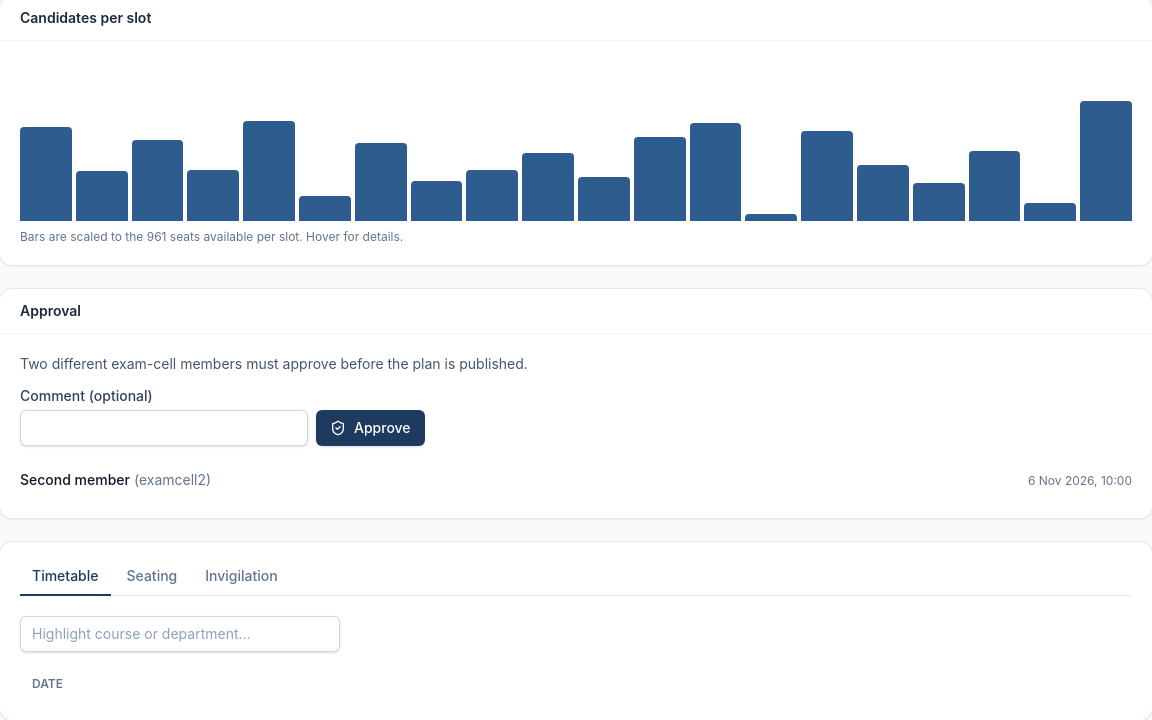
Test: RunDetailPage approvals › shows the plan metrics and the second approval starts publishing
(page scrolled)
Expected: the text "Second member" is shown, left=20, top=471, right=130, bottom=488
In the field labelled "Comment (optional)": coordinates (164, 428) left=20, top=410, right=308, bottom=446, type "Checked the clashes"
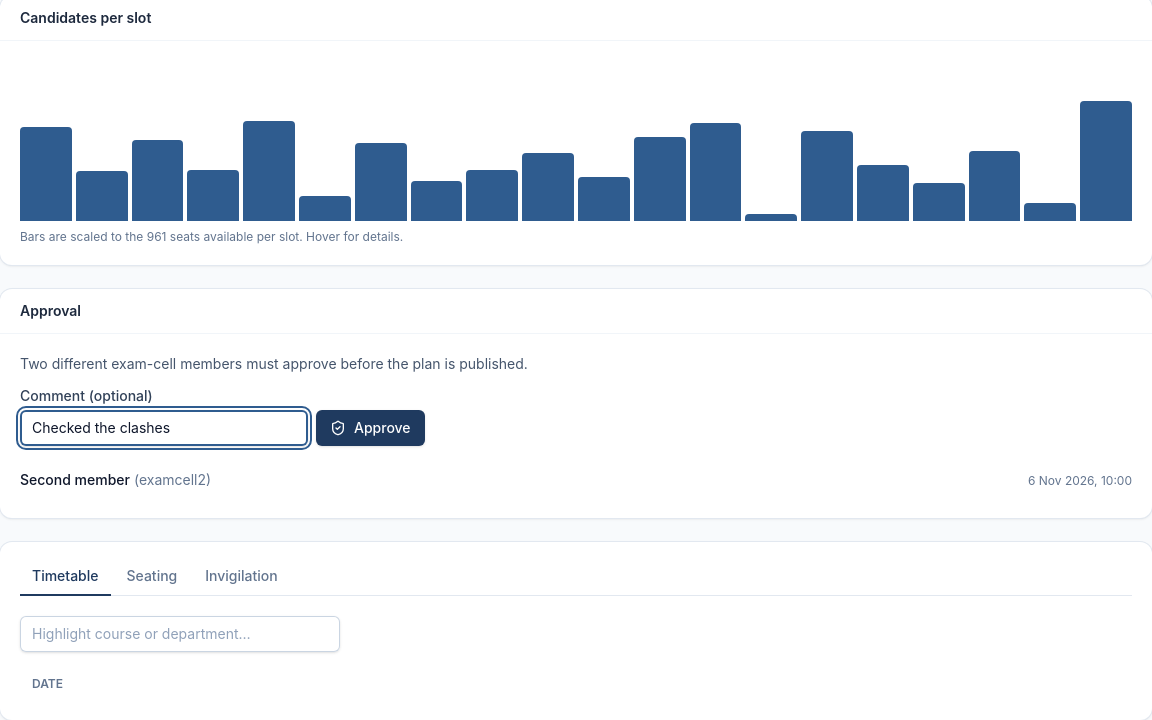
Click the button "Approve": coordinates (370, 428) left=316, top=410, right=425, bottom=446
(page scrolled)
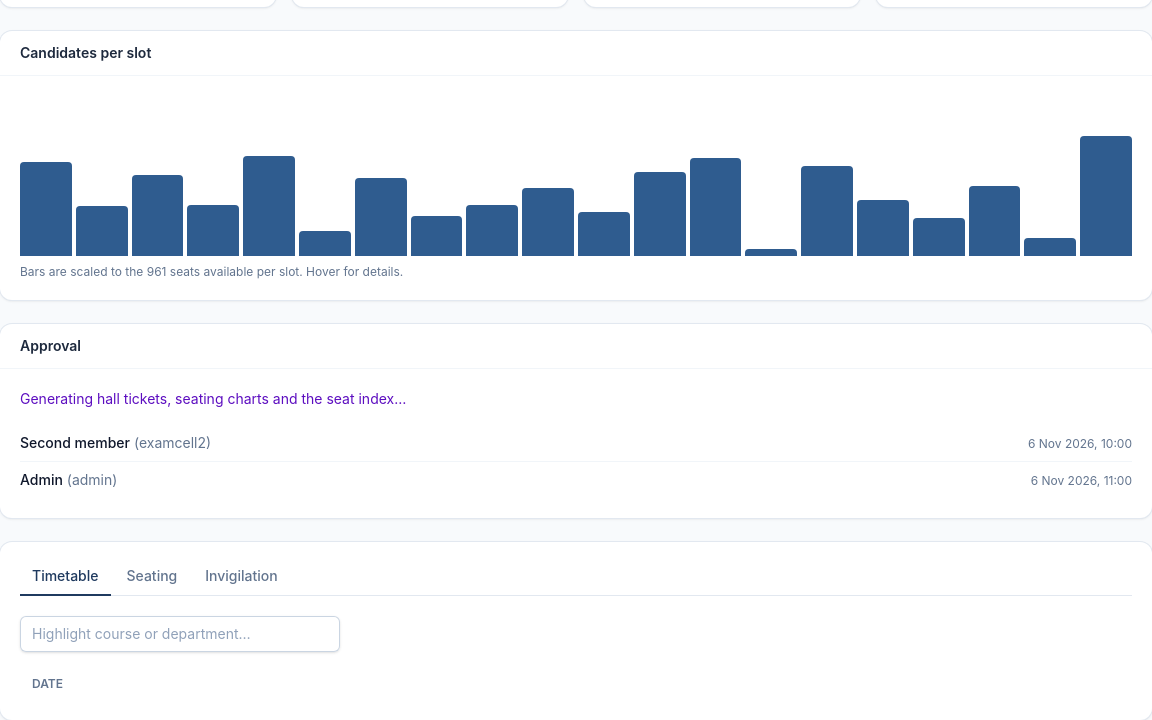
Result: the text "Generating hall tickets, seating charts and the seat index…" is shown at left=20, top=390, right=406, bottom=407
